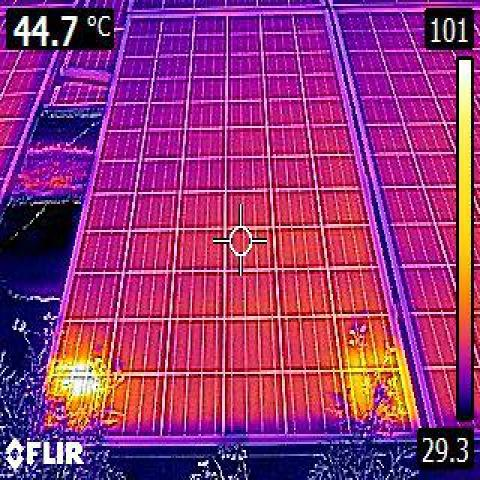fault: (53, 361, 96, 394)
